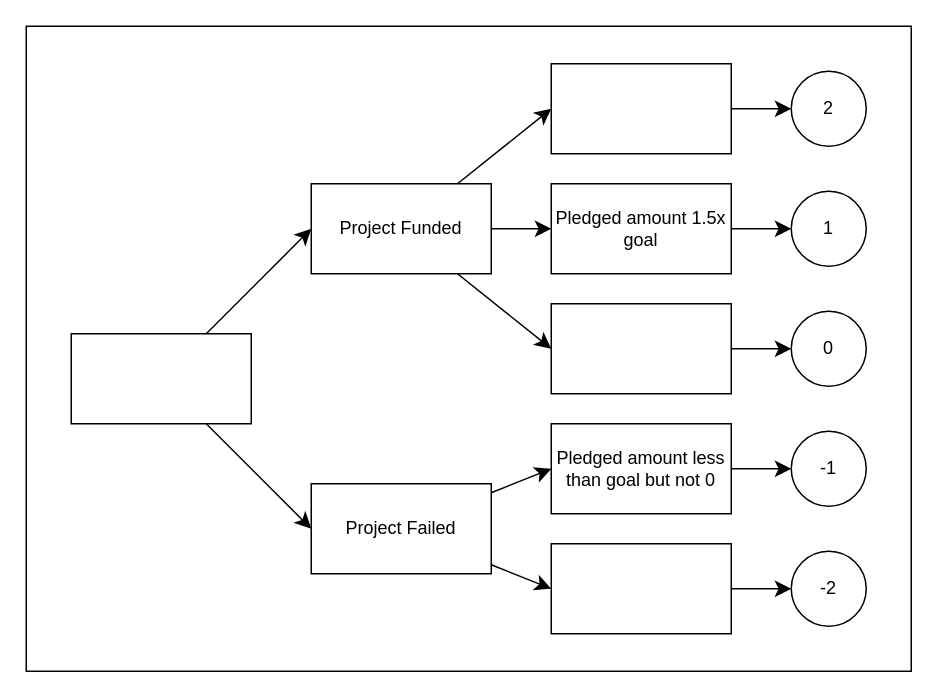
The diagram is 938 pixels wide and 698 high, and some of its shapes have lost their labels. The centre of each missing label's shape, as x and y in pixels:
"Pledged amount 0" belongs at pixel 640 588.
"Pledged amount 1x it's goal" belongs at pixel 640 348.
"Pledged amount 2x goal" belongs at pixel 640 108.
"Project" belongs at pixel 160 378.
